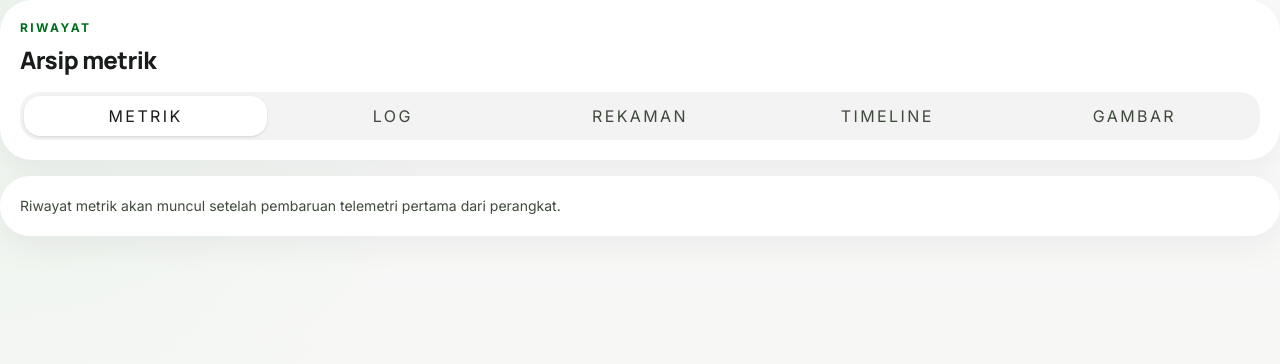
HistoryPanel › images tab (gallery query) › shows empty state when the gallery query returns no rows
This screenshot has width=1280, height=364.
Click the button "Gambar" at {"x": 1134, "y": 116}, box [1013, 96, 1256, 136]
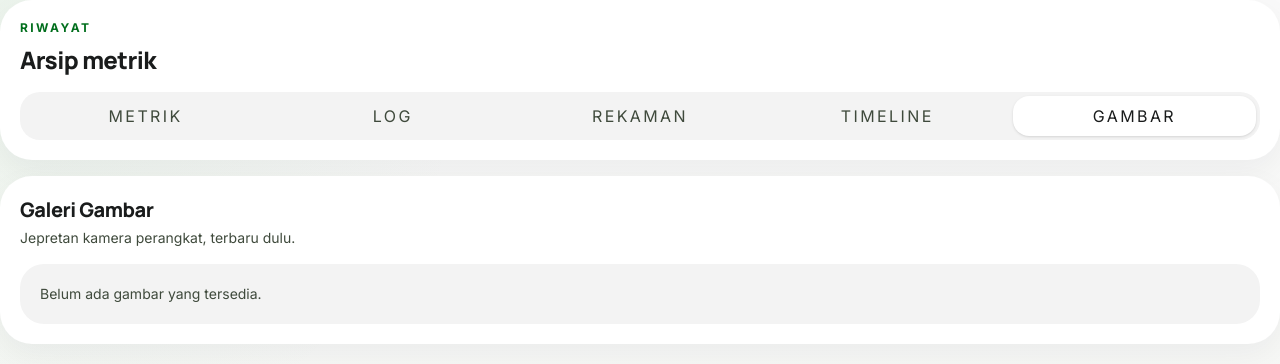
Result: the text "Belum ada gambar yang tersedia." is shown at [20, 264, 1260, 324]
